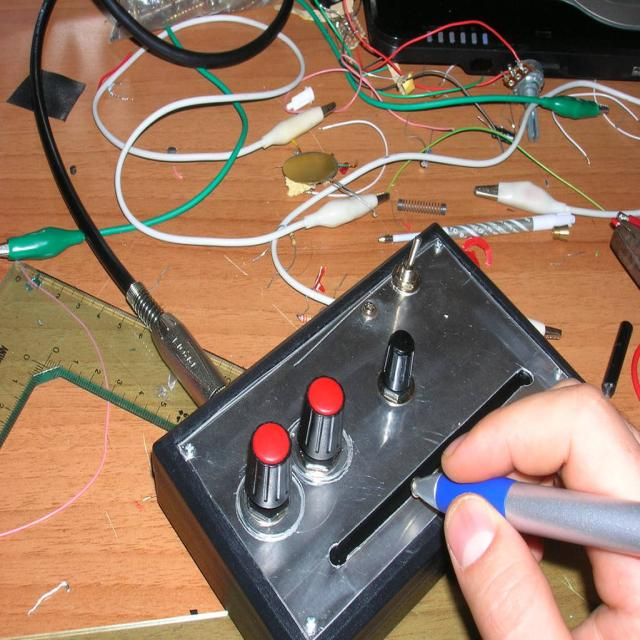pen: (415, 474, 640, 559)
